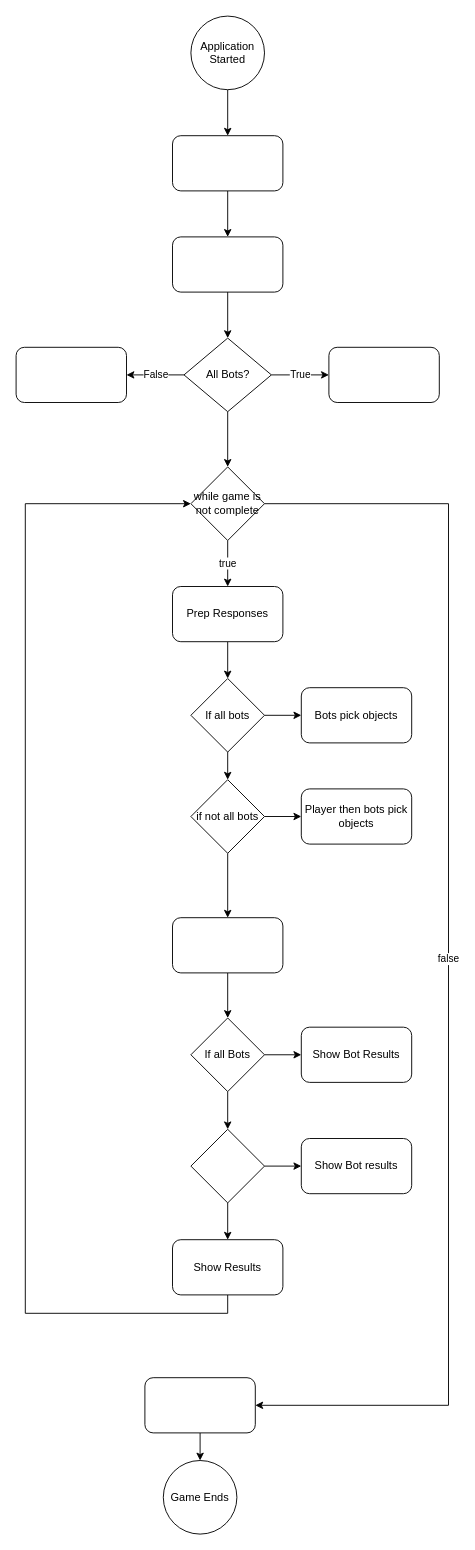
The diagram is 475 pixels wide and 1550 high, and some of its shapes have lost their labels. Here are the shapes that lost their labels. From the top down, the centre of each, then its label:
At (227,163): "Creates RockPaperScissors Object".
At (227,264): "GameConfig sets to numbers of rounds to win condition".
At (70,374): "Register a player as human and one as a bot".
At (383,374): "Register players as bots".
At (227,945): "Resolve Round".
At (227,1165): "is p2 is bot".
At (199,1405): "ExitLoop".
